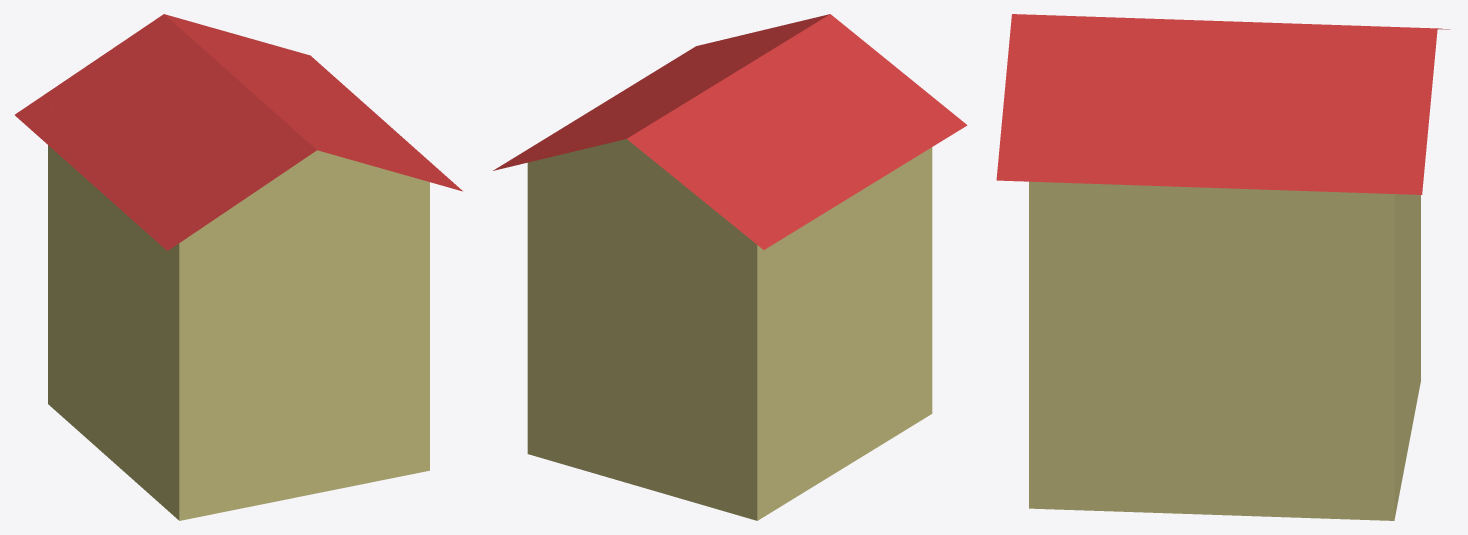
The picture shows the model from 3 angles, left to right: view 1: azimuth 30°, elevation 25°; view 2: azimuth 150°, elevation 25°; view 3: azimuth 270°, elevation 25°; orthographic projection. The views are drawn at different scales.
Size of the model in its own units: 7.03 by 7.56 by 7.75.
